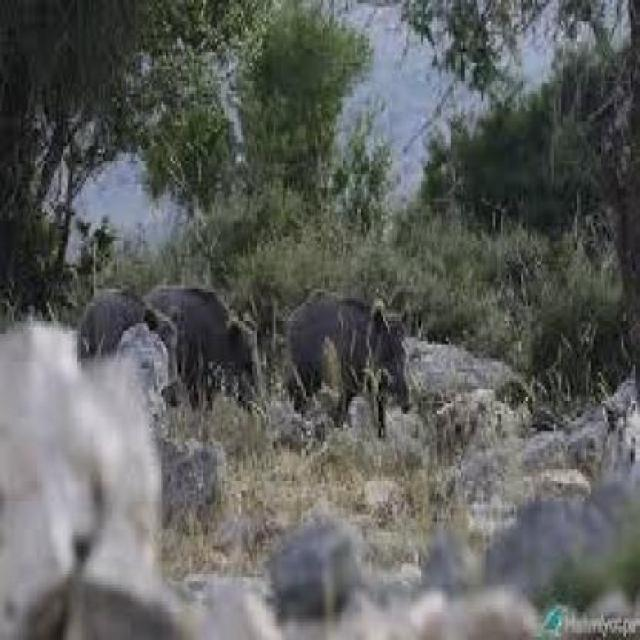wildboar: (283, 284, 420, 434), (145, 273, 269, 421), (72, 276, 193, 426)
